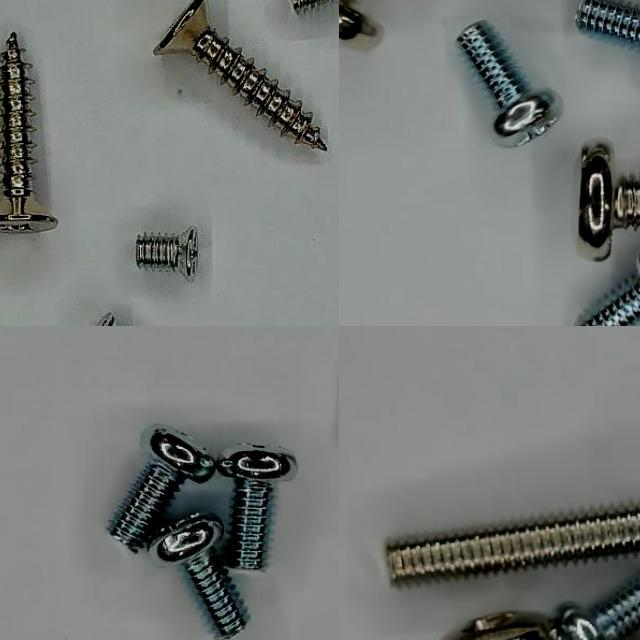Screw: (153, 0, 327, 150), (386, 504, 640, 585), (108, 425, 214, 552), (457, 21, 561, 147), (0, 32, 57, 233), (157, 513, 246, 639), (217, 444, 297, 570), (578, 143, 640, 261), (555, 572, 640, 640), (576, 254, 640, 326), (135, 227, 198, 281), (575, 0, 640, 45), (289, 0, 331, 12)
